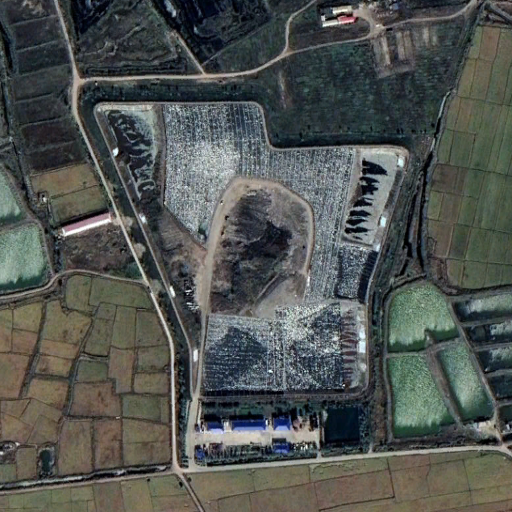lf: (89, 102, 399, 393)
